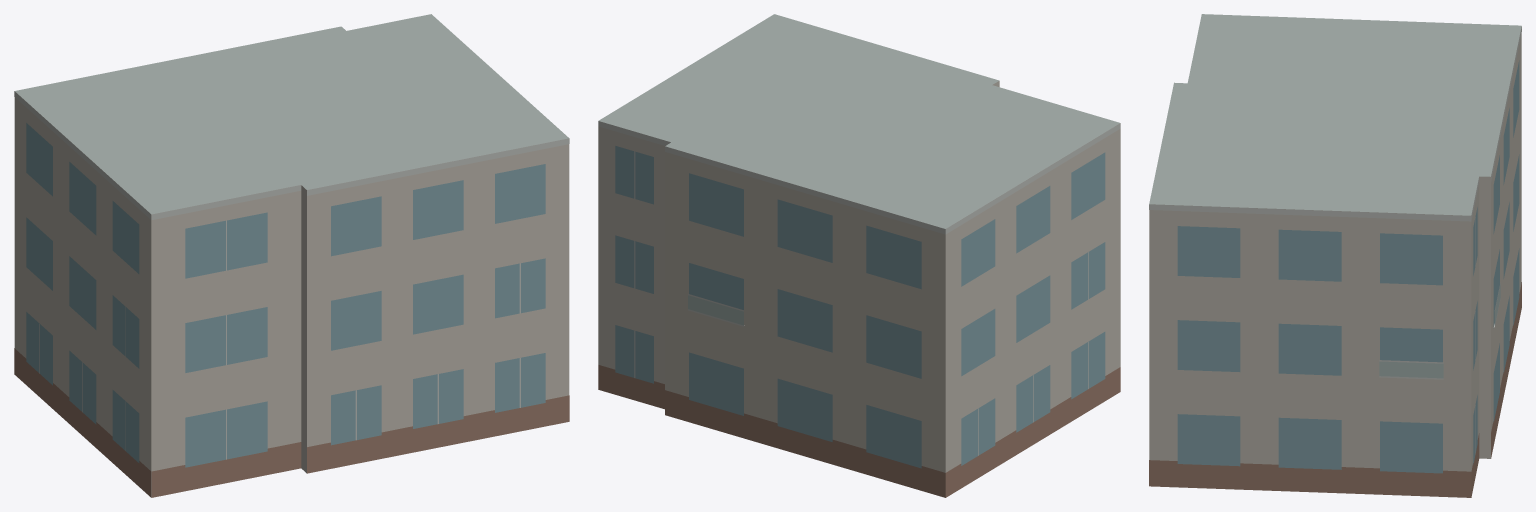
Rendered from survey-upis-32832334.glb.
3 views of the same model, side by side, from view 1: azimuth 30°, elevation 25°; view 2: azimuth 150°, elevation 25°; view 3: azimuth 270°, elevation 25° (orthographic). The views are drawn at different scales.
Visible parts, largest first — view 1: survey-upis-32832334.tmp; view 2: survey-upis-32832334.tmp; view 3: survey-upis-32832334.tmp.
Part boxes in pixels (box(x1,y1,x2,y2)): survey-upis-32832334.tmp: box(14, 14, 569, 497); survey-upis-32832334.tmp: box(598, 14, 1120, 497); survey-upis-32832334.tmp: box(1149, 14, 1521, 497).
Size of the model in its own units: 18.31 by 11.93 by 14.29.
